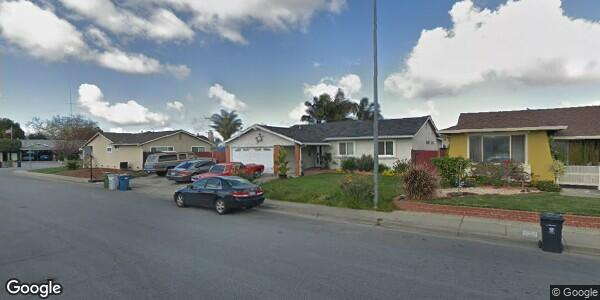Steel_Pole: (369, 1, 383, 214)
